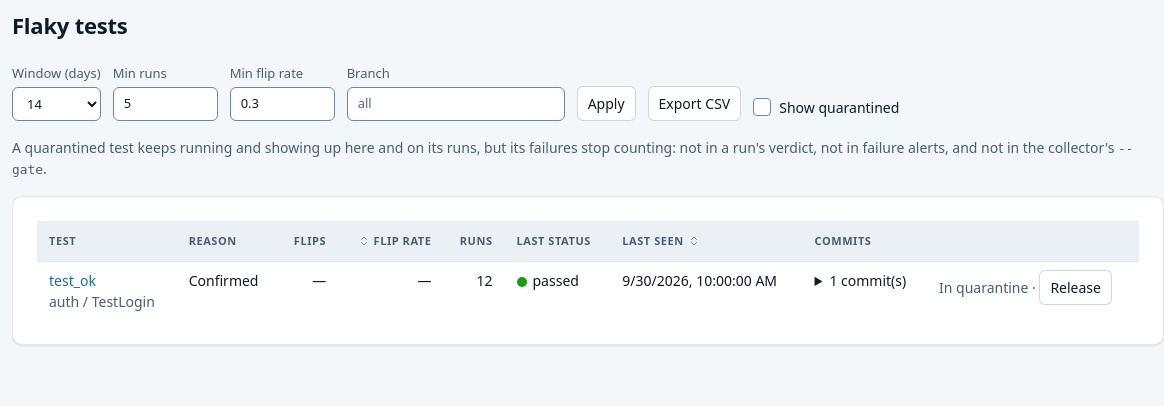
Release says that failures count again
Click the checkbox labelled "Show quarantined". click: (762,107)
box: [753, 98, 771, 116]
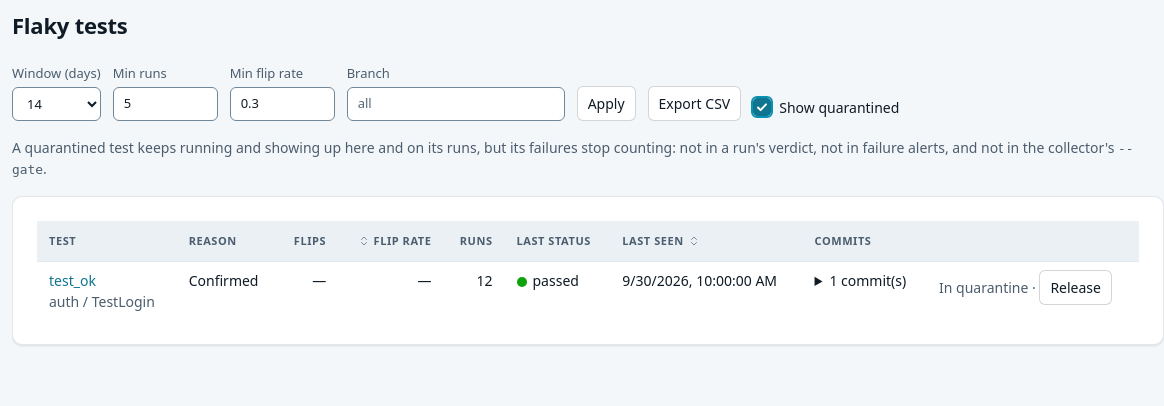
Click the button with aria-label "release test_ok from quarantine". click: (1076,287)
box: [1039, 270, 1112, 305]
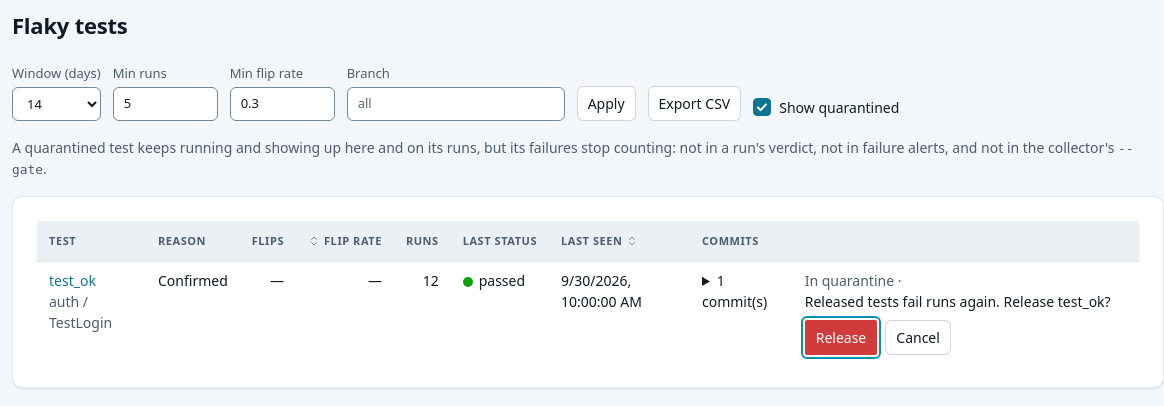
Check: the text "Released tests fail runs again. Release test_ok?" is shown, box [805, 291, 1111, 312]
